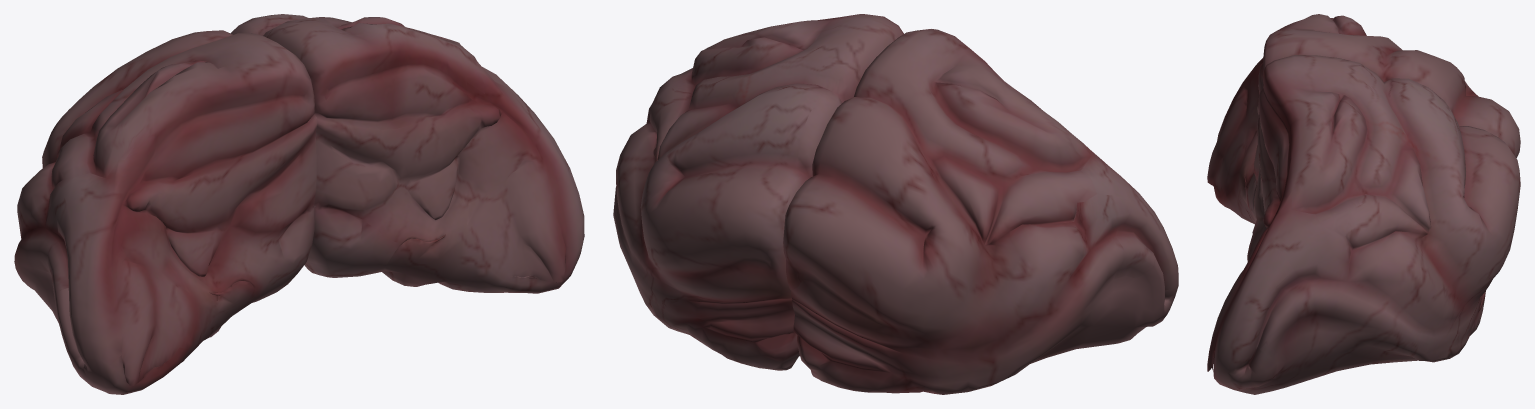
Rendered from Parietal_Lobe.gltf.
3 renders of one model, left to right at view 1: azimuth 30°, elevation 25°; view 2: azimuth 150°, elevation 25°; view 3: azimuth 270°, elevation 25°, orthographic. The views are drawn at different scales.
Visible parts, largest first — view 1: Parietal_Lobe_Right, Parietal_Lobe_Left; view 2: Parietal_Lobe_Right, Parietal_Lobe_Left; view 3: Parietal_Lobe_Left, Parietal_Lobe_Right.
Part boxes in pixels (x1,y1,x2,y2): Parietal_Lobe_Right: (14,30,317,394); Parietal_Lobe_Left: (230,14,584,293); Parietal_Lobe_Right: (783,29,1178,394); Parietal_Lobe_Left: (613,14,903,370); Parietal_Lobe_Left: (1207,55,1520,394); Parietal_Lobe_Right: (1207,14,1520,224).
Size of the model in its own units: 12.53 by 6.72 by 7.39.
1 material, 1 textured.
